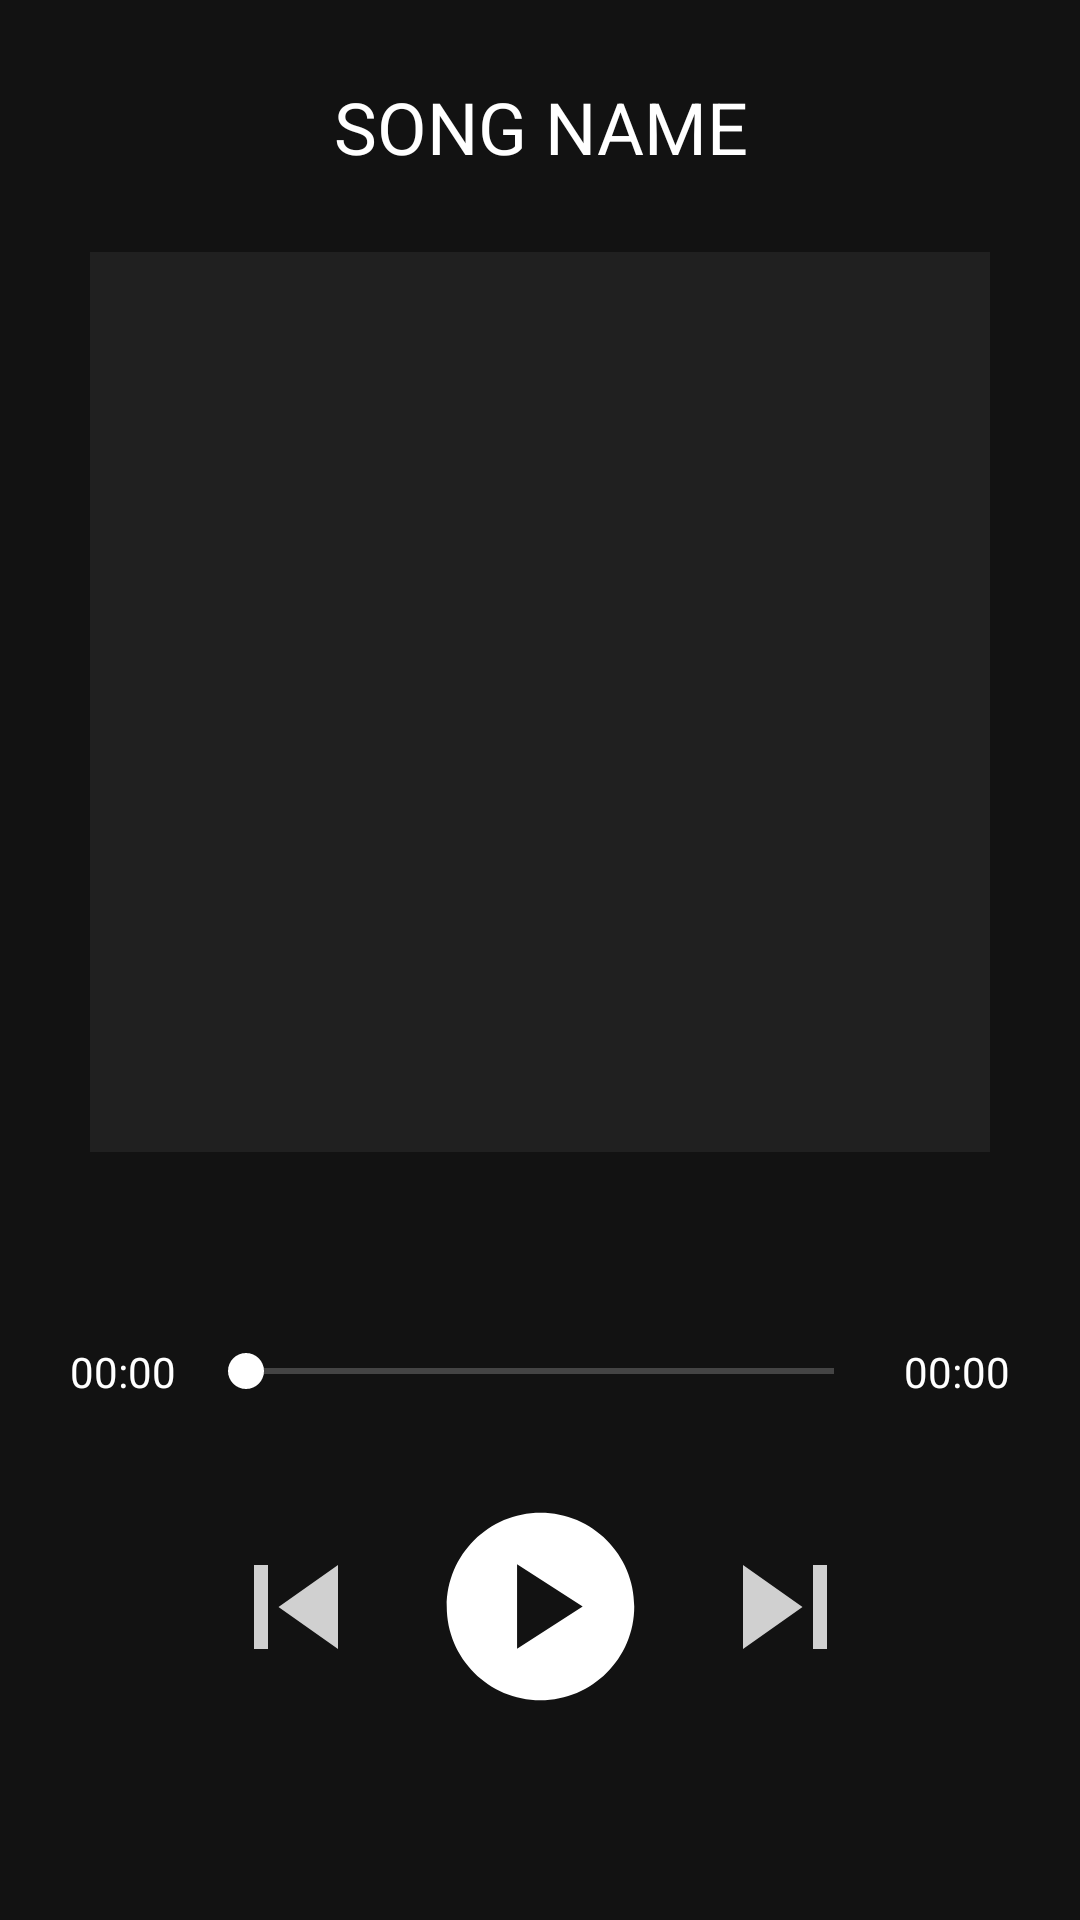

Icons on this 1080w x 1920h Android screen, each with the point to tap as point (x, y):
play circle: point (540, 1606)
skip: point (785, 1607)
skip previous: point (296, 1607)
